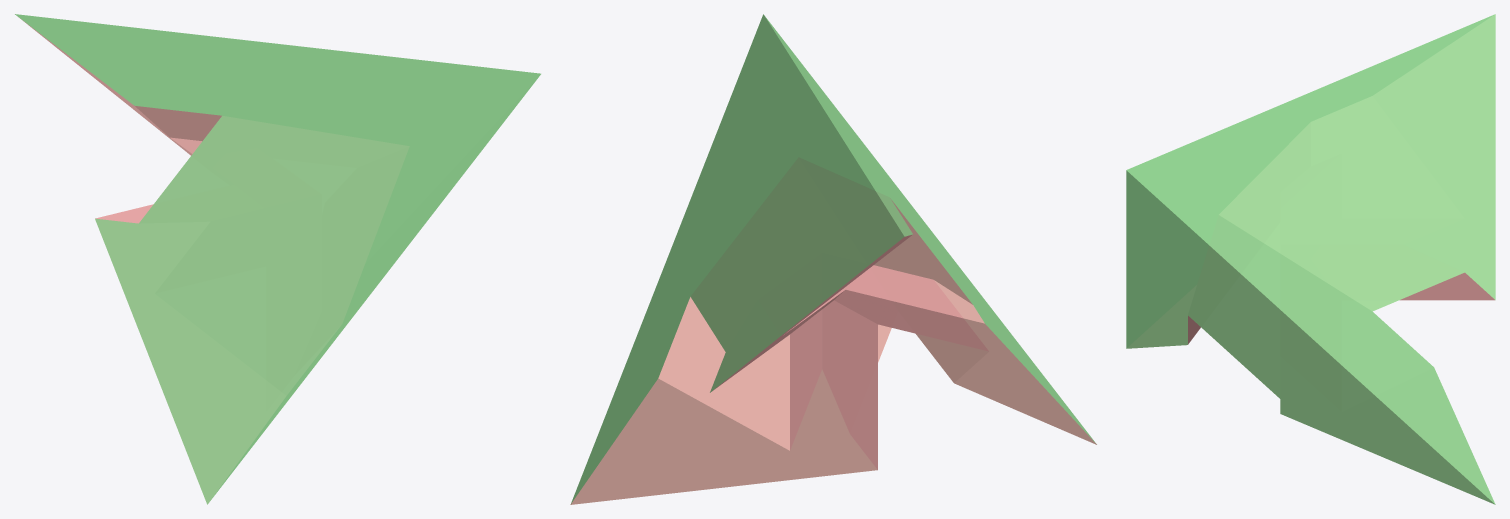
Rendered from HeptagonalDodecahedron_A.obj.
The picture shows the model from 3 angles, left to right: view 1: azimuth 30°, elevation 25°; view 2: azimuth 150°, elevation 25°; view 3: azimuth 270°, elevation 25°; orthographic projection. The views are drawn at different scales.
Bounding box in the file's own units: 12 × 12 × 12.
